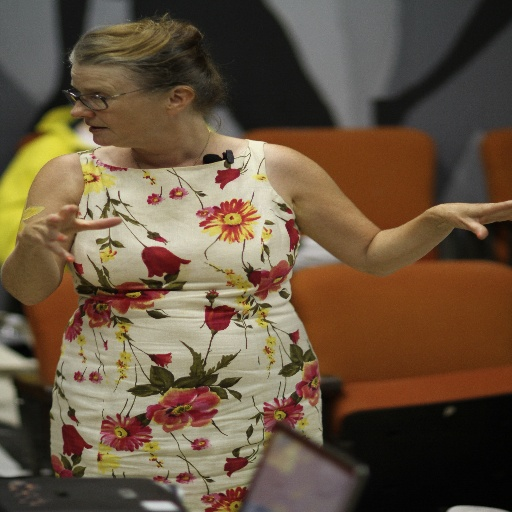hand: (19, 201, 125, 264), (416, 189, 494, 247)
